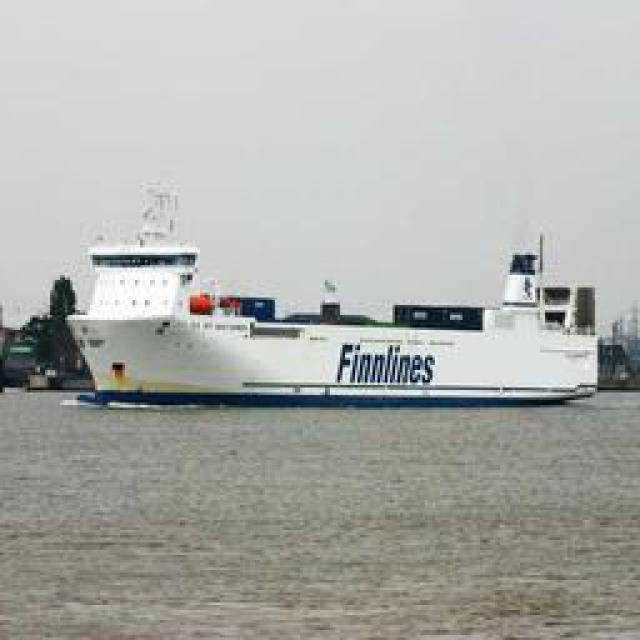Ship: (54, 233, 609, 408)
